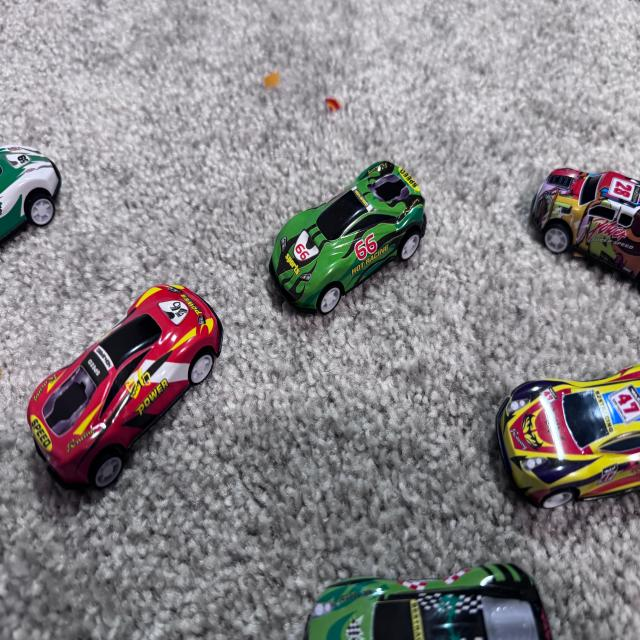car: (26, 269, 255, 541), (276, 550, 640, 640), (246, 154, 430, 318), (479, 329, 640, 497), (519, 127, 640, 320), (0, 118, 70, 288)
